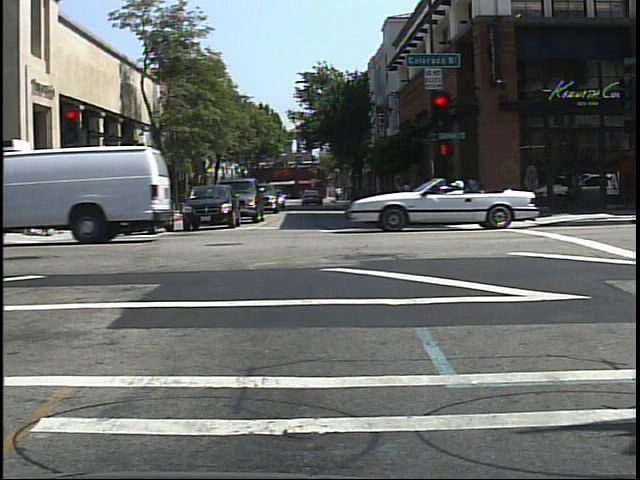person: (93, 180, 113, 228)
